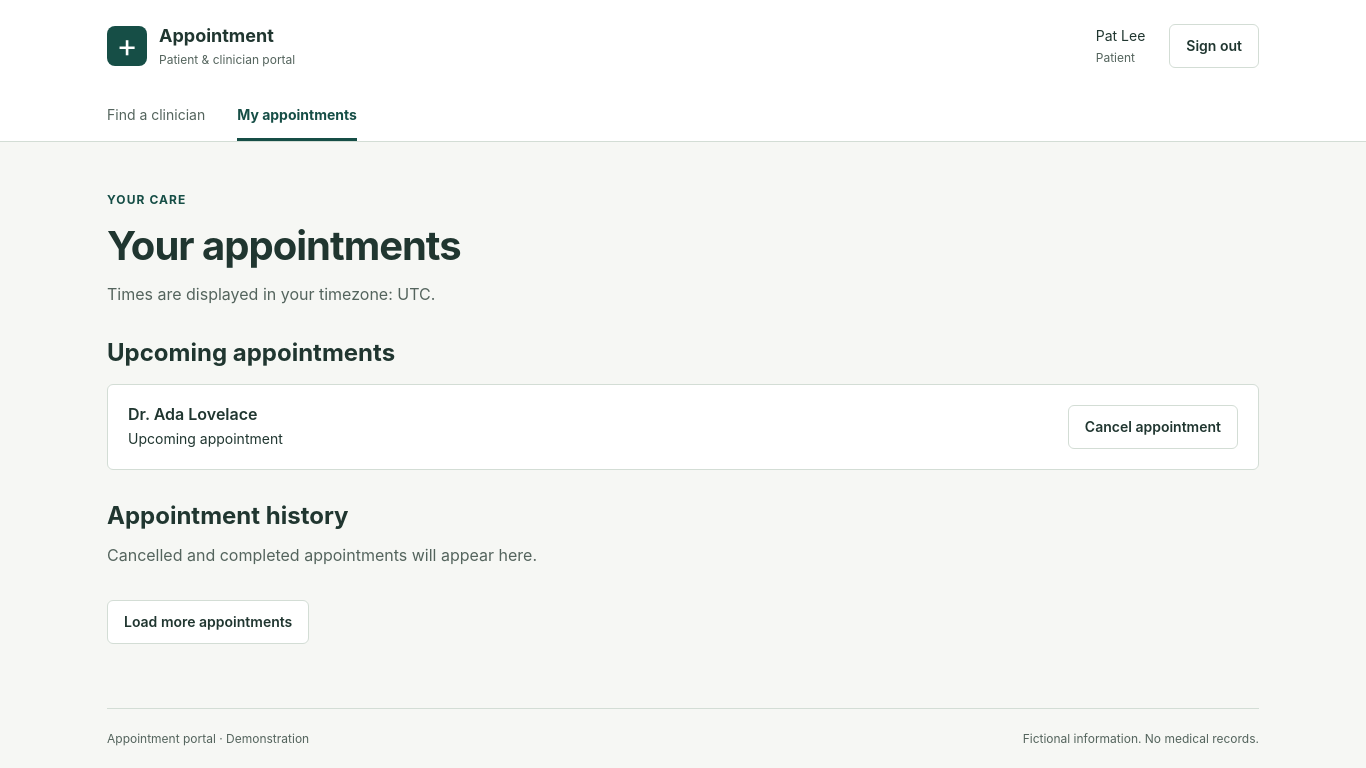
Test case: patient appointment journeys › moves a cancelled appointment from an earlier accumulated page into history
Click the button "Load more appointments" at (208, 622), box [107, 600, 309, 644]
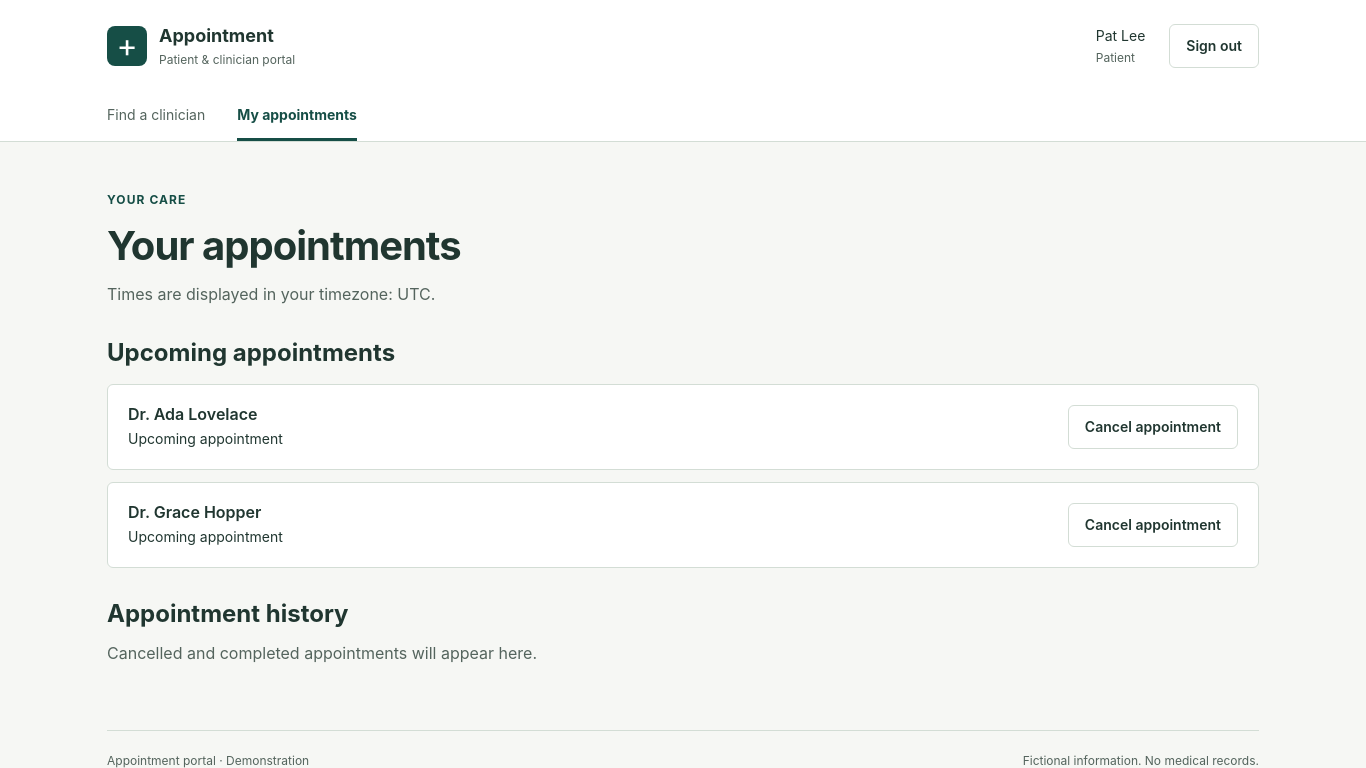
Expected: the heading "Dr. Grace Hopper" is shown, [128, 503, 283, 523]
Click the button with aria-label "Cancel appointment with Dr. Ada Lovelace" at (1153, 427), box [1068, 405, 1238, 449]
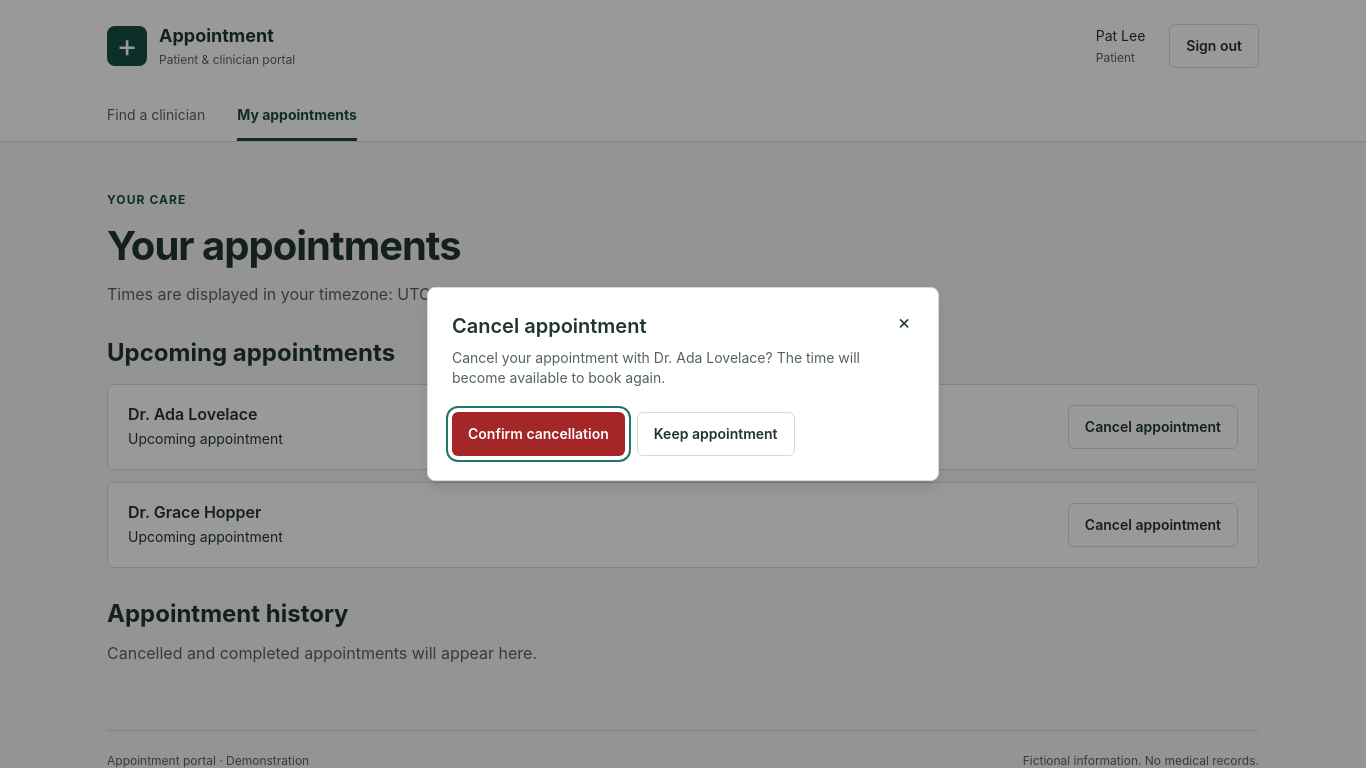
Click the button "Confirm cancellation" at (538, 434), box [452, 412, 625, 456]
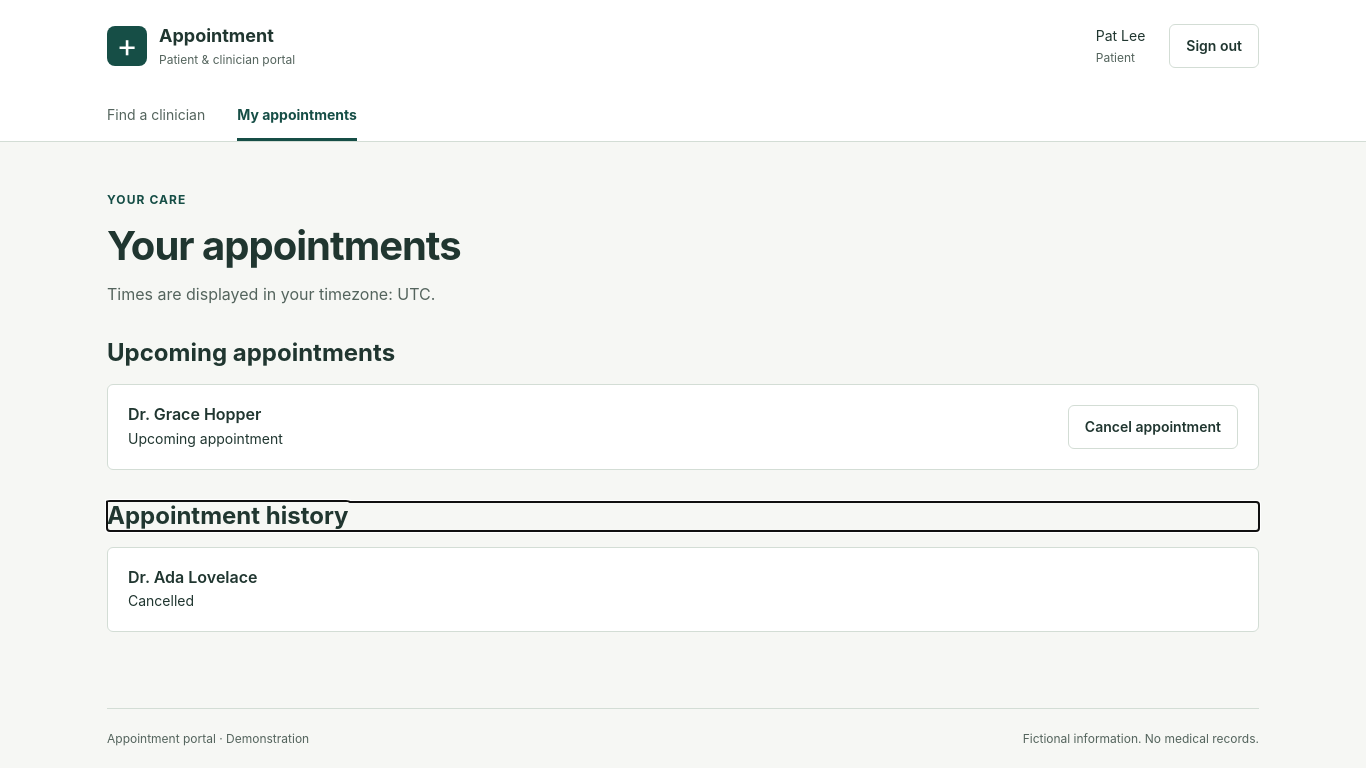
Expected: the number of headings "Dr. Ada Lovelace" is 1, [128, 568, 258, 587]
Expected: the dialog is gone
Expected: the text "Cancelled" is shown, [128, 592, 194, 609]
